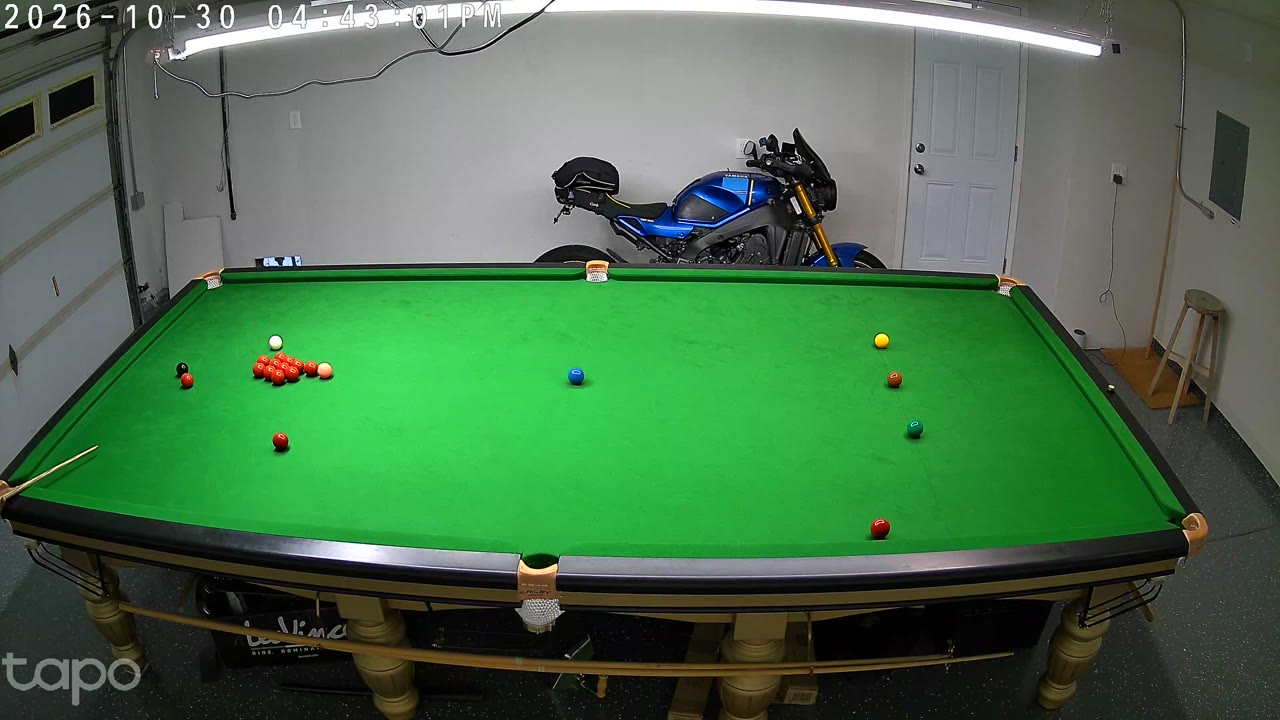black: (176, 361, 189, 380)
blue: (568, 366, 584, 388)
brown: (887, 370, 901, 391)
green: (906, 417, 923, 441)
pink: (319, 361, 331, 381)
red: (869, 515, 891, 547), (273, 431, 289, 453), (284, 366, 299, 384), (181, 371, 193, 390), (305, 360, 317, 378), (273, 370, 284, 387), (294, 359, 304, 376), (254, 362, 264, 377), (258, 354, 269, 366), (274, 353, 287, 363), (264, 366, 273, 379), (278, 362, 288, 373), (270, 359, 280, 370), (286, 355, 295, 367)
white: (269, 334, 283, 354)
yellow: (875, 332, 888, 351)
